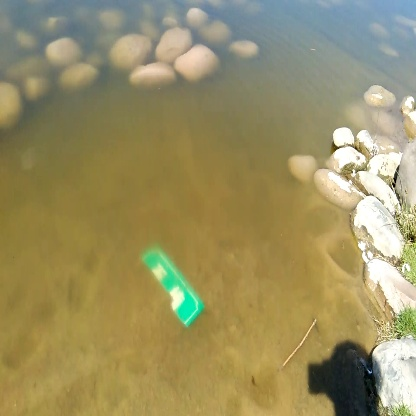plastic-garbage: (134, 233, 210, 327)
